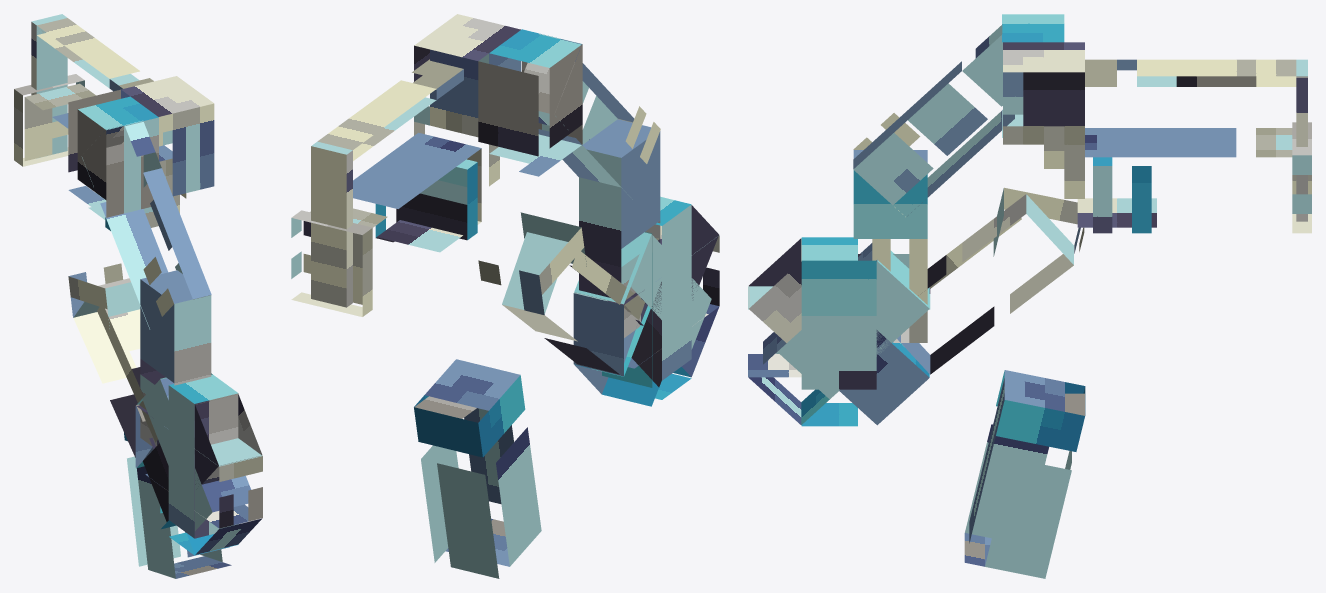
File: moonless_handle.obj
3 renders of one model, left to right at view 1: azimuth 30°, elevation 25°; view 2: azimuth 150°, elevation 25°; view 3: azimuth 270°, elevation 25°, orthographic. The views are drawn at different scales.
Visible parts, largest first — view 1: cube; view 2: cube; view 3: cube.
Boxes of the visible parts, <box> form: cube: <box>14,14,262,578</box>; cube: <box>291,14,719,578</box>; cube: <box>748,14,1311,578</box>.
Size of the model in its own units: 0.2319 by 0.8939 by 0.9008.
